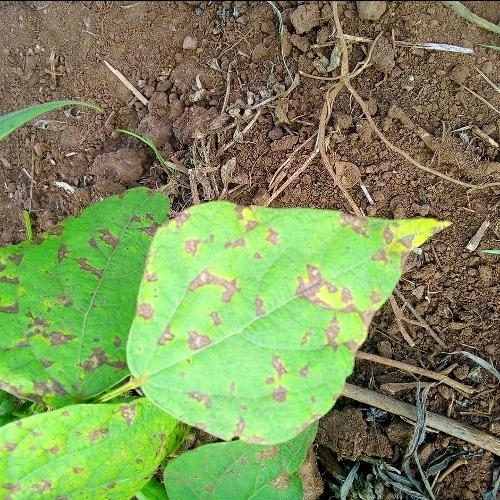hawar: (129, 197, 448, 446)
